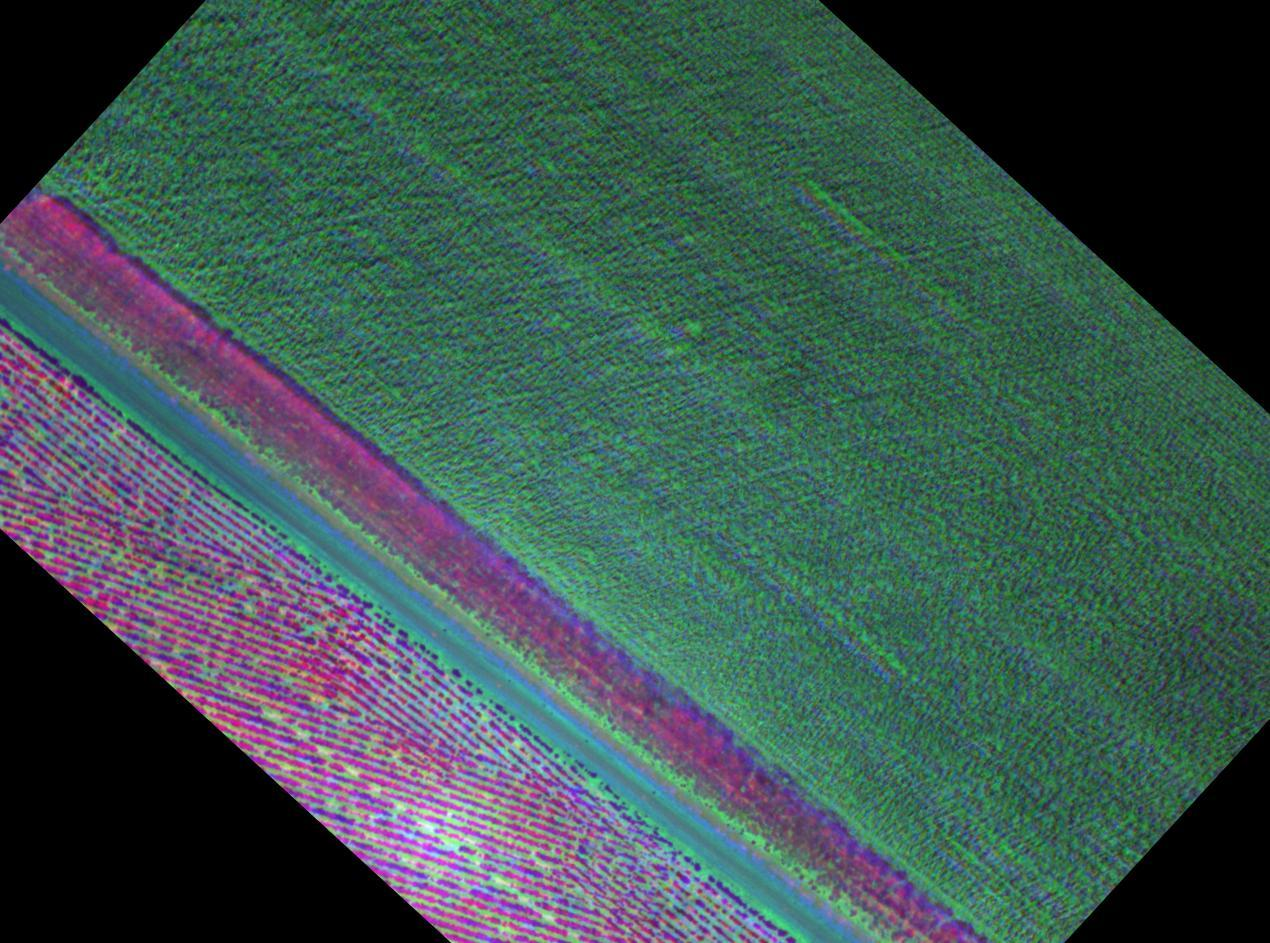dc: (497, 877, 507, 888), (545, 913, 552, 924), (1, 389, 8, 399), (446, 840, 454, 848), (268, 711, 275, 719), (521, 895, 528, 902), (349, 768, 355, 776), (398, 803, 403, 812), (187, 574, 193, 581), (38, 432, 44, 437)
